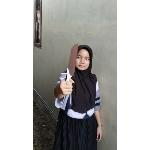Pisau: (61, 40, 82, 85)
